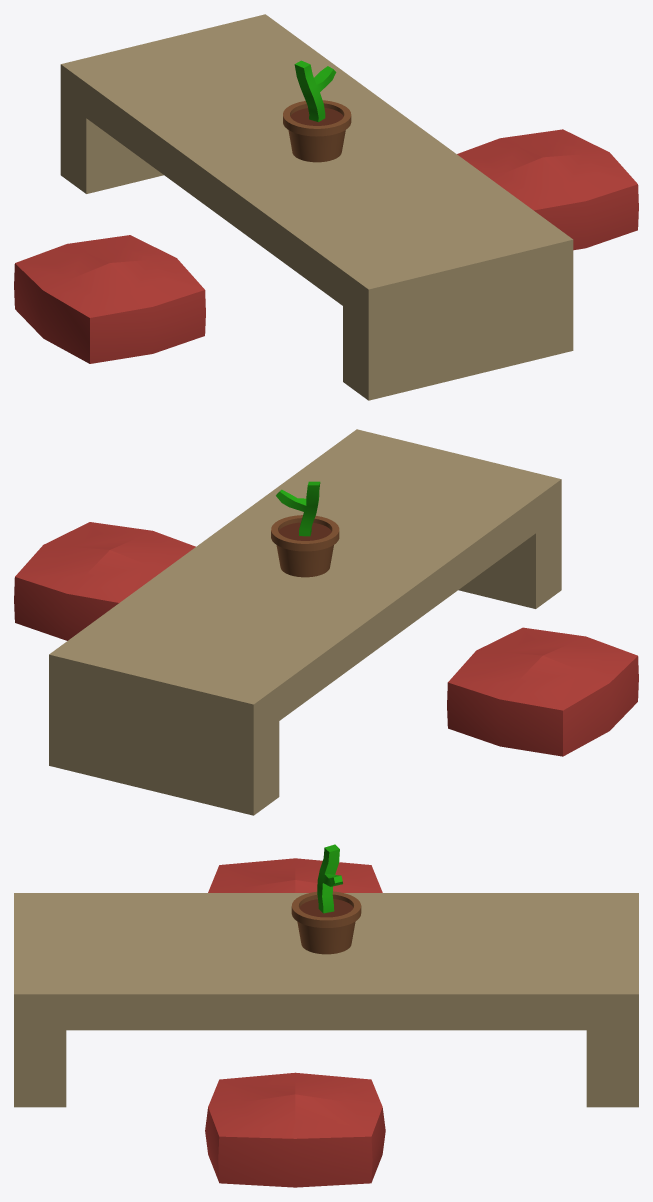
The model's file is Coffee Table.fbx.
3 renders of one model, top to bottom at view 1: azimuth 30°, elevation 25°; view 2: azimuth 150°, elevation 25°; view 3: azimuth 270°, elevation 25°, orthographic.
Parts seen in each view (by area): view 1: Coffee Table; view 2: Coffee Table; view 3: Coffee Table.
Boxes of the visible parts, x1=… form: Coffee Table: x1=14, y1=14, x2=638, y2=400; Coffee Table: x1=14, y1=429, x2=638, y2=815; Coffee Table: x1=14, y1=844, x2=638, y2=1187.
Size of the model in its own units: 75.98 by 25.46 by 70.98.
